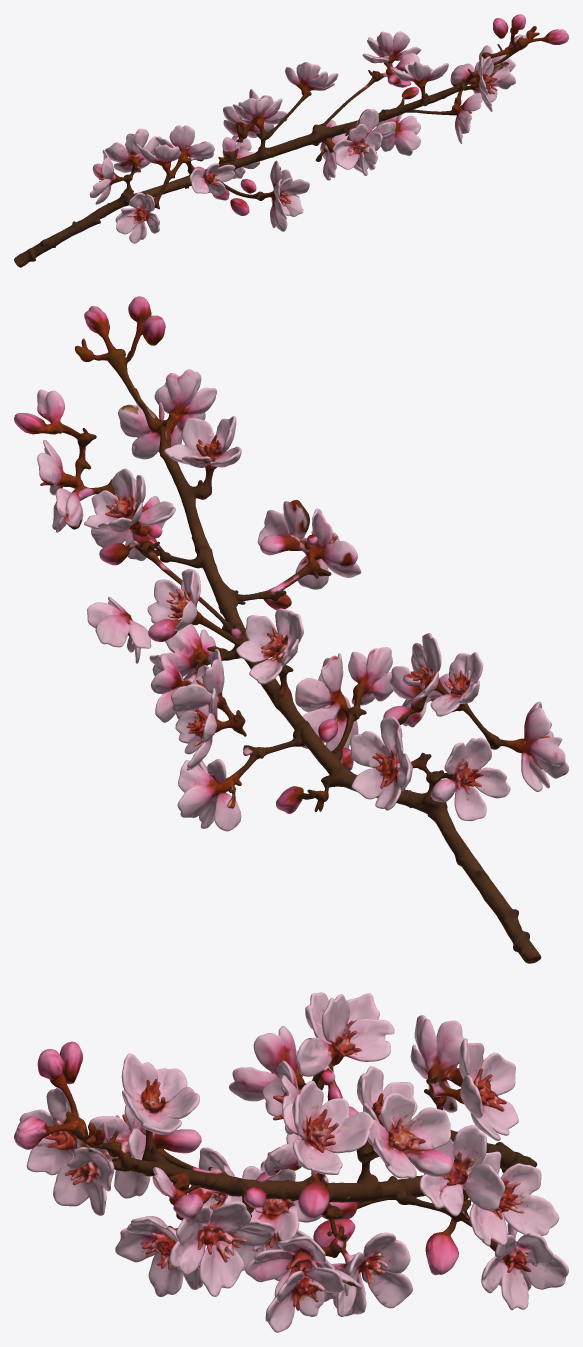
Rendered from CherryBlossom.glb.
The picture shows the model from 3 angles, top to bottom: view 1: azimuth 30°, elevation 25°; view 2: azimuth 150°, elevation 25°; view 3: azimuth 270°, elevation 25°; orthographic projection. The views are drawn at different scales.
Visible parts, largest first — view 1: tripo_node_47e147fc-9c0d-44b8-9bc2-7f8522bde2a9; view 2: tripo_node_47e147fc-9c0d-44b8-9bc2-7f8522bde2a9; view 3: tripo_node_47e147fc-9c0d-44b8-9bc2-7f8522bde2a9.
Part boxes in pixels (x1=…): tripo_node_47e147fc-9c0d-44b8-9bc2-7f8522bde2a9: x1=14, y1=14, x2=568, y2=267; tripo_node_47e147fc-9c0d-44b8-9bc2-7f8522bde2a9: x1=14, y1=296, x2=568, y2=963; tripo_node_47e147fc-9c0d-44b8-9bc2-7f8522bde2a9: x1=14, y1=992, x2=568, y2=1332.
Size of the model in its own units: 0.9998 by 0.5593 by 0.5832.
Materials: 1 (1 with a texture image).
